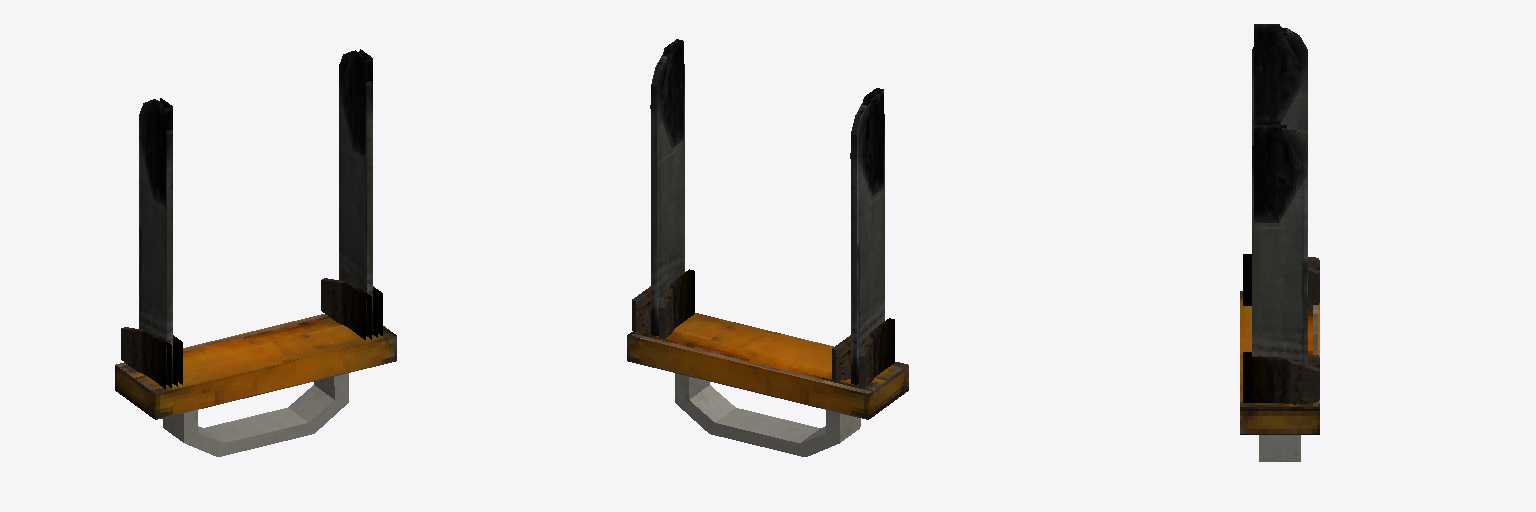
3 renders of one model, left to right at view 1: azimuth 30°, elevation 25°; view 2: azimuth 150°, elevation 25°; view 3: azimuth 270°, elevation 25°, orthographic.
Visible parts, largest first — view 1: SCP_Lever; view 2: SCP_Lever; view 3: SCP_Lever.
Part boxes in pixels (x1,y1,x2,y2): SCP_Lever: (115,49,396,456); SCP_Lever: (627,39,908,456); SCP_Lever: (1240,24,1319,461).
Size of the model in its own units: 0.7377 by 1.06 by 0.2133.
1 materials, 1 textured.